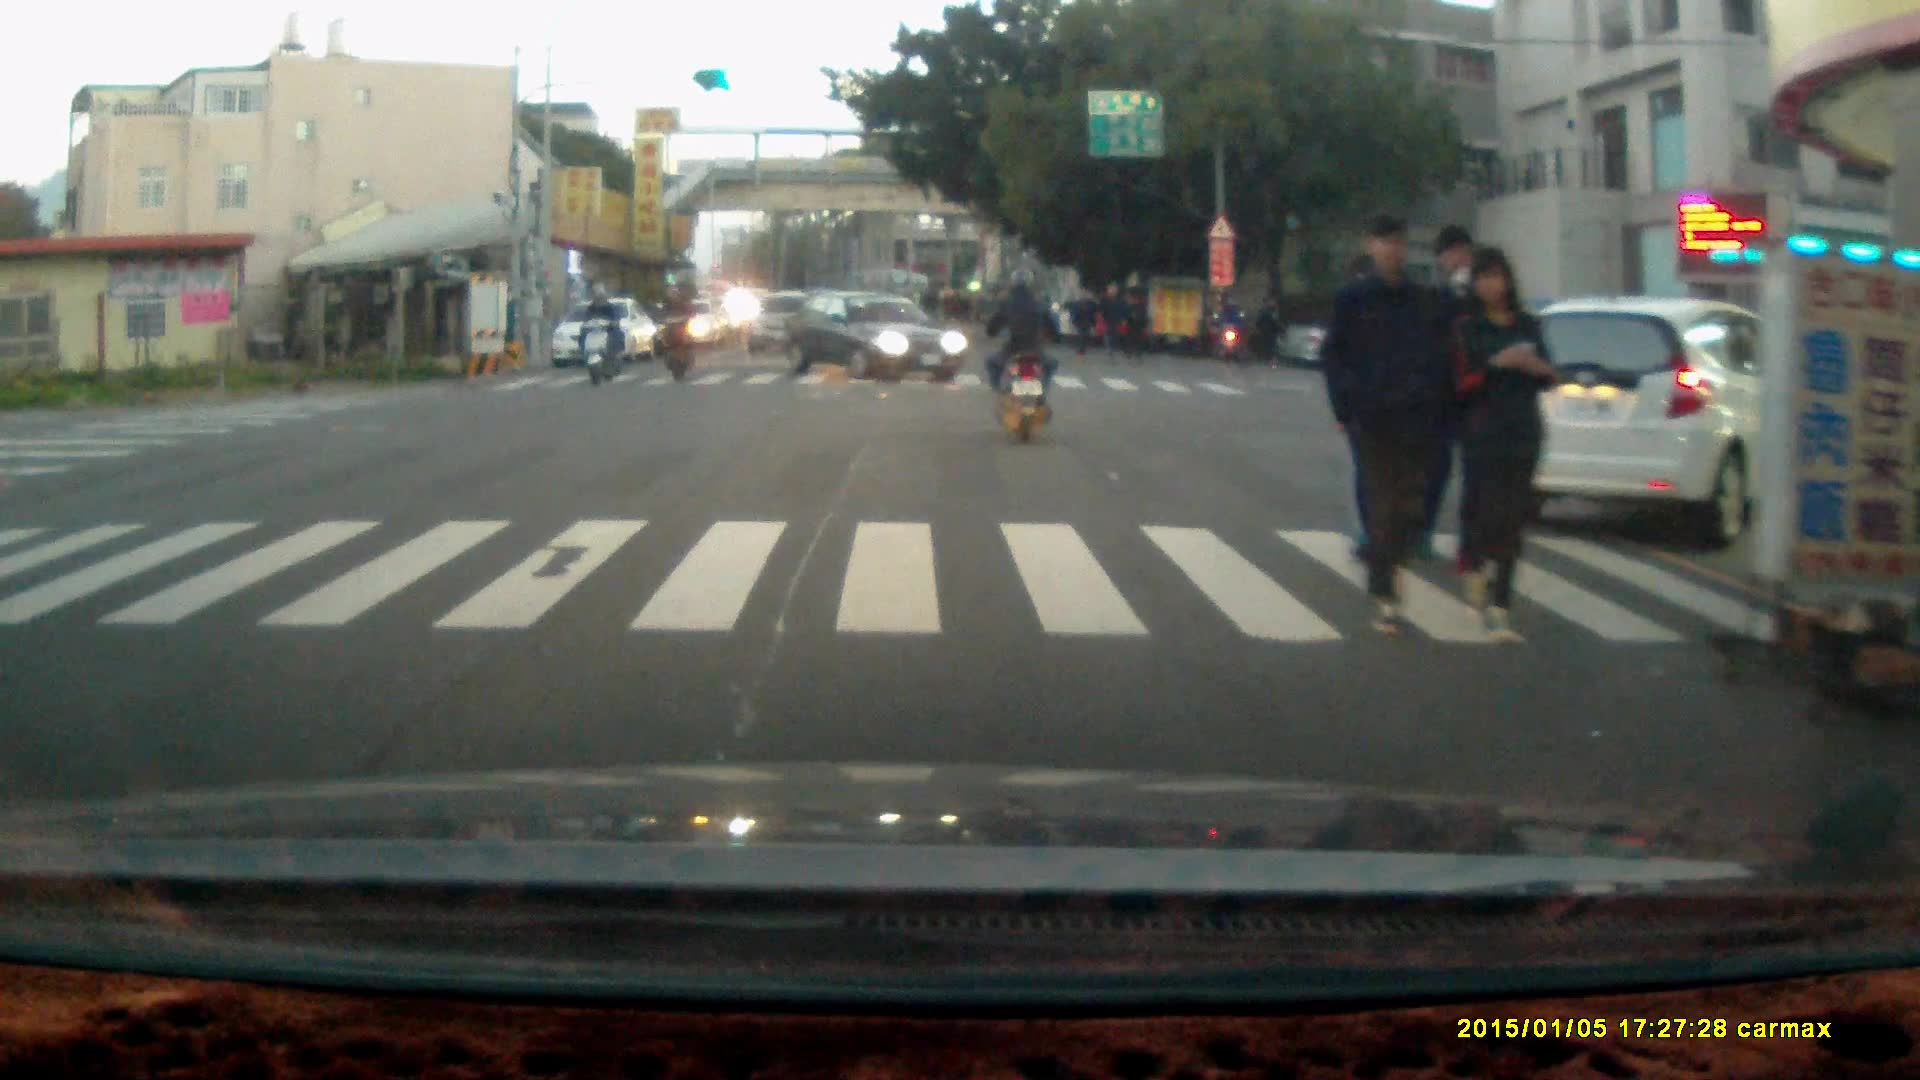pedestrian: (1314, 211, 1454, 647), (1446, 246, 1550, 646), (1096, 279, 1125, 363), (1118, 288, 1150, 362), (1250, 288, 1281, 365), (1063, 283, 1092, 360)
rider: (984, 262, 1057, 446), (577, 283, 623, 388), (650, 280, 696, 379), (1205, 295, 1245, 357)
vehicle: (1479, 290, 1880, 550), (778, 286, 971, 381), (551, 298, 654, 369)
